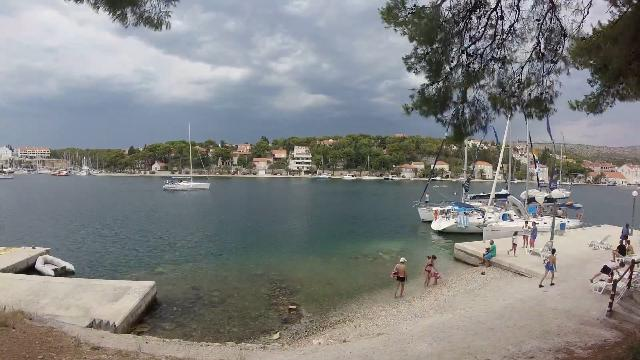Sailboat: (159, 175, 215, 195)
